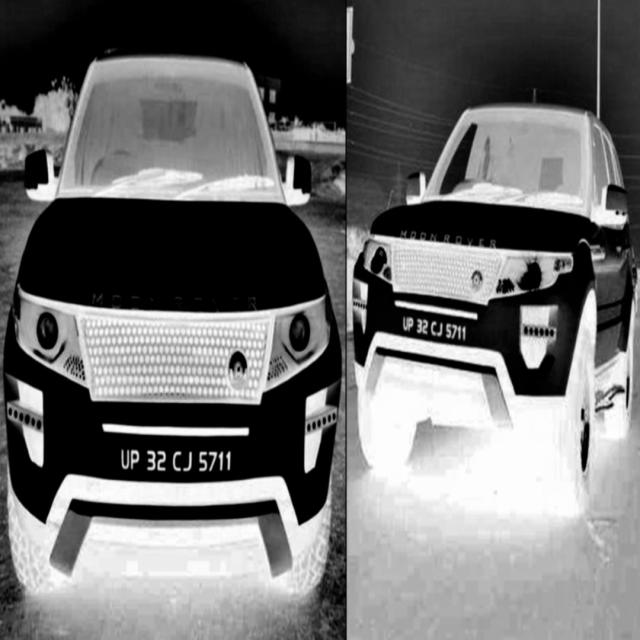Non_registered: (102, 424, 250, 487), (394, 298, 479, 358)
